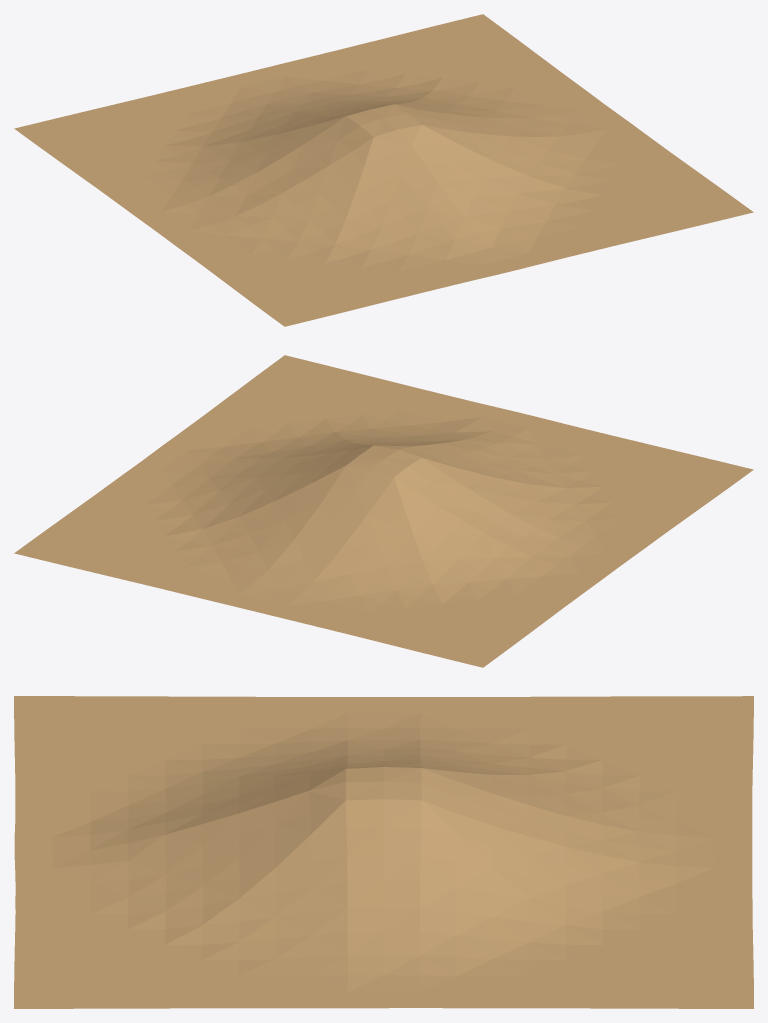
The model's file is level_0.glb.
The picture shows the model from 3 angles, top to bottom: view 1: azimuth 30°, elevation 25°; view 2: azimuth 150°, elevation 25°; view 3: azimuth 270°, elevation 25°; orthographic projection. The views are drawn at different scales.
Visible parts, largest first — view 1: world; view 2: world; view 3: world.
Boxes of the visible parts, left/top/right/bottom form: world: left=14, top=14, right=753, bottom=326; world: left=14, top=355, right=753, bottom=667; world: left=14, top=696, right=753, bottom=1008.
Size of the model in its own units: 0.6437 by 0.0683 by 0.6436.
